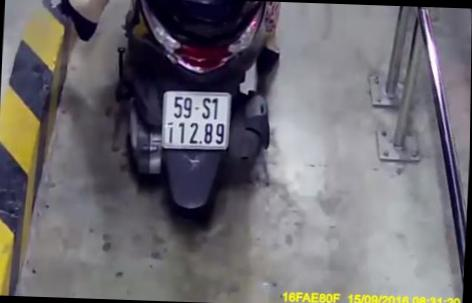LP: (160, 88, 233, 151)
